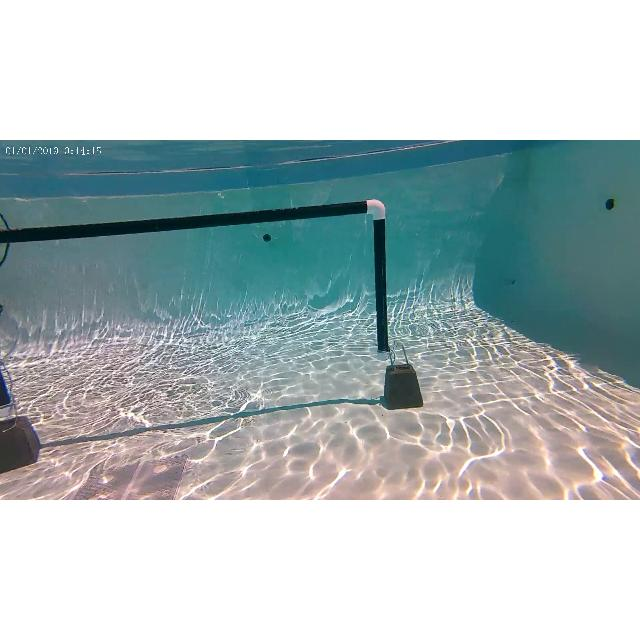prequal gate: (0, 200, 386, 416)
prequal gate leg l: (0, 365, 42, 477)
prequal gate leg r: (364, 196, 424, 410)
